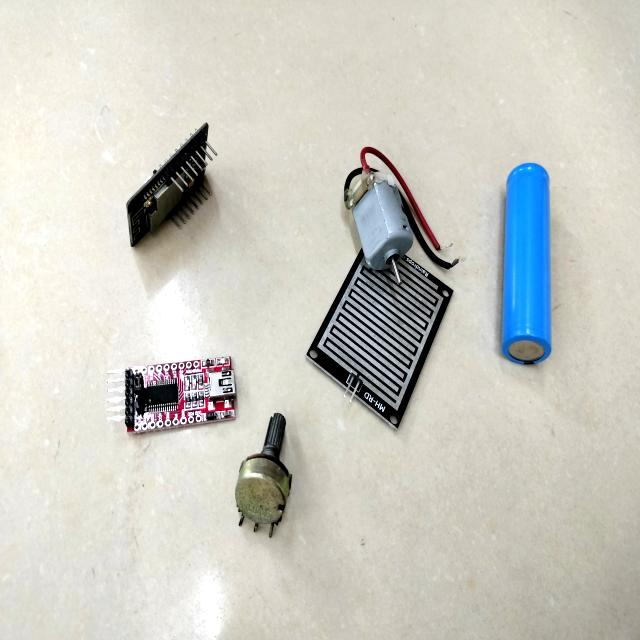3-3-Volt-Battery: (493, 159, 556, 373)
DC-Motor: (341, 165, 417, 292)
ESP32-CAM: (123, 117, 221, 253)
FT-232-USB-Serial-Module: (102, 346, 242, 448)
Raindrops-Module: (305, 235, 455, 441)
Taper-Potentiometer: (231, 408, 298, 544)
